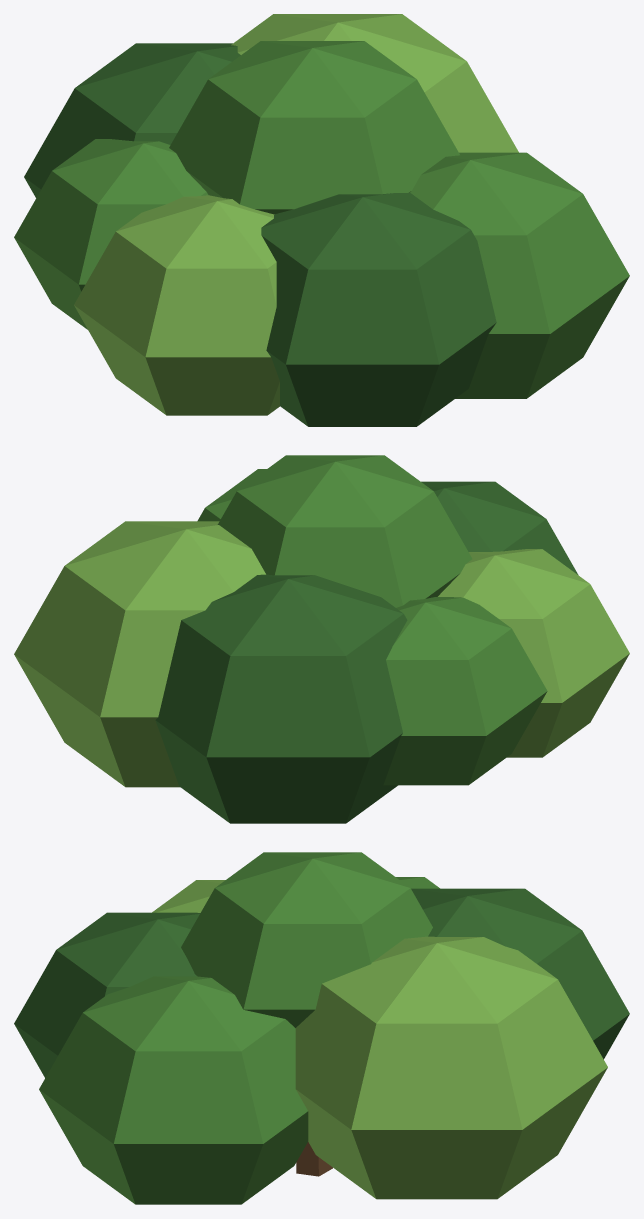
Rendered from bush_green.glb.
3 views of the same model, one above another, from view 1: azimuth 30°, elevation 25°; view 2: azimuth 150°, elevation 25°; view 3: azimuth 270°, elevation 25° (orthographic). The views are drawn at different scales.
Visible parts, largest first — view 1: scatter_bush; view 2: scatter_bush; view 3: scatter_bush.
Boxes of the visible parts, left/top/right/bottom form: scatter_bush: left=14, top=14, right=629, bottom=426; scatter_bush: left=14, top=455, right=629, bottom=823; scatter_bush: left=14, top=852, right=629, bottom=1204.
Size of the model in its own units: 1.75 by 1.18 by 2.13.
